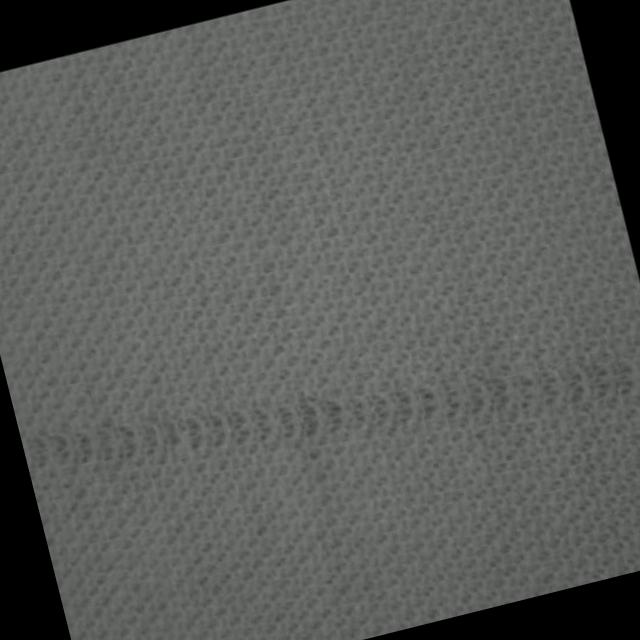Warp_Weft: (19, 282, 640, 548)
